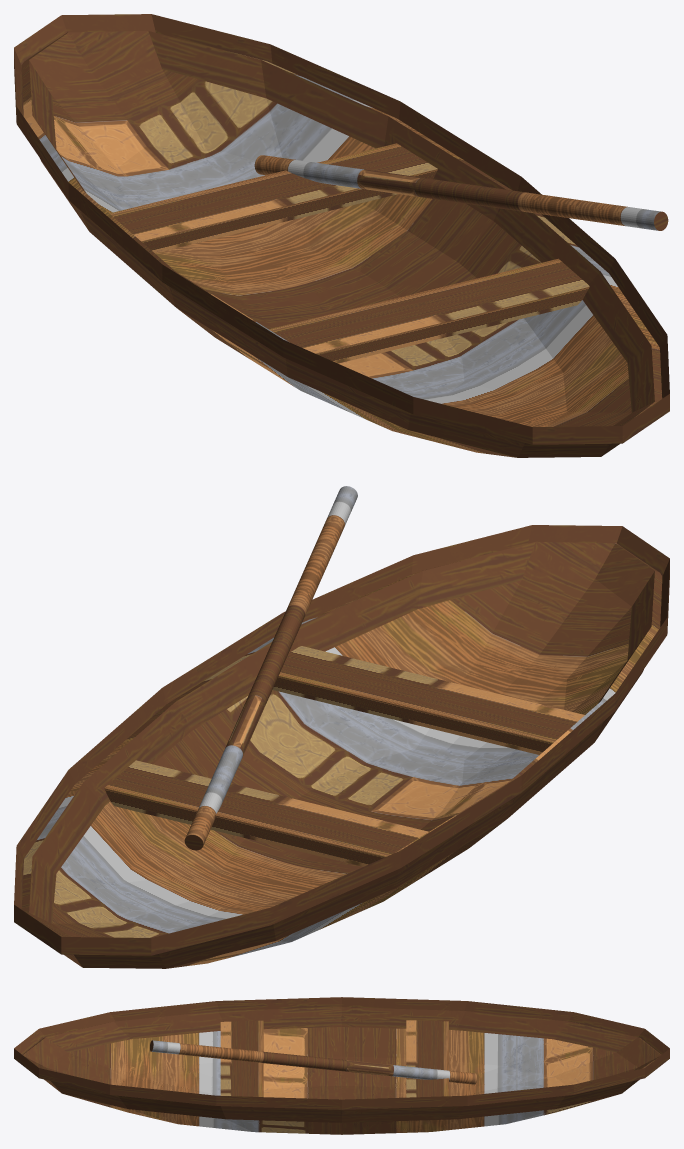
File: Boot.gltf
3 views of the same model, one above another, from view 1: azimuth 30°, elevation 25°; view 2: azimuth 150°, elevation 25°; view 3: azimuth 270°, elevation 25° (orthographic). The views are drawn at different scales.
Parts seen in each view (by area): view 1: Boot; view 2: Boot; view 3: Boot.
Part boxes in pixels (<box>): Boot: <box>14,14,669,457</box>; Boot: <box>14,486,669,968</box>; Boot: <box>14,997,669,1134</box>.
Bounding box in the file's own units: 1.7 × 0.9518 × 4.6.
1 material, 1 textured.
